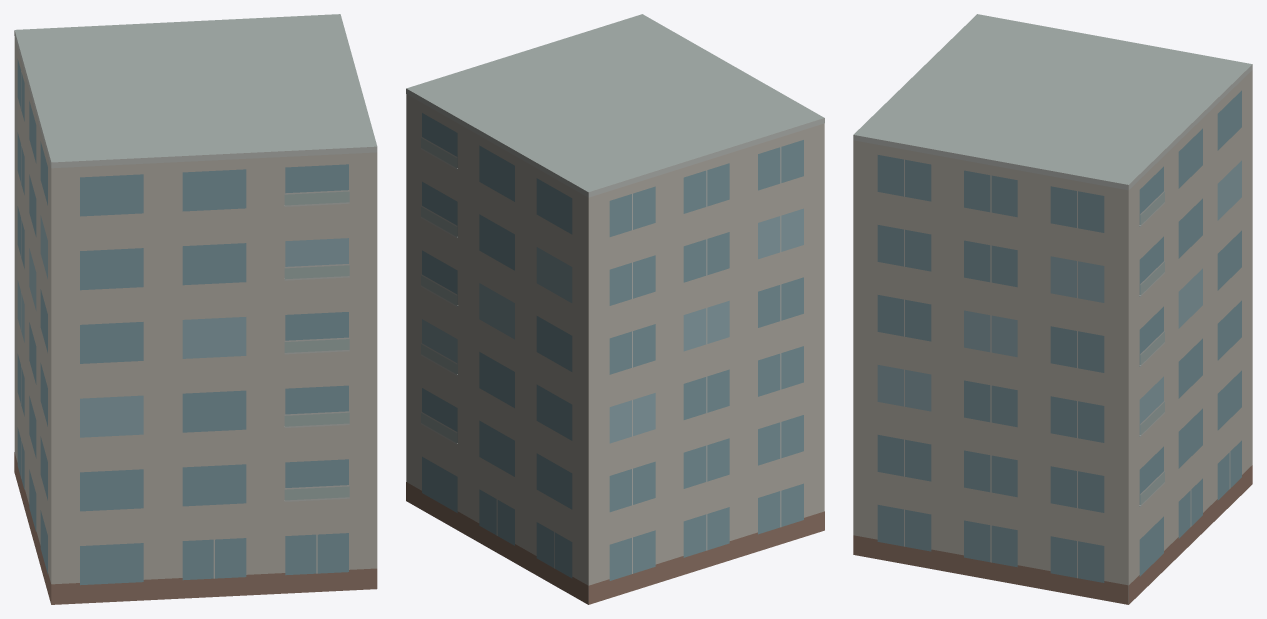
File: survey-upis-32531313.glb
3 views of the same model, side by side, from view 1: azimuth 30°, elevation 25°; view 2: azimuth 150°, elevation 25°; view 3: azimuth 270°, elevation 25° (orthographic). The views are drawn at different scales.
Visible parts, largest first — view 1: survey-upis-32531313.tmp; view 2: survey-upis-32531313.tmp; view 3: survey-upis-32531313.tmp.
Part boxes in pixels (x1,y1,x2,y2): survey-upis-32531313.tmp: [14, 14, 377, 604]; survey-upis-32531313.tmp: [406, 14, 824, 604]; survey-upis-32531313.tmp: [853, 14, 1252, 604].
Size of the model in its own units: 16.25 by 18.6 by 16.04.
